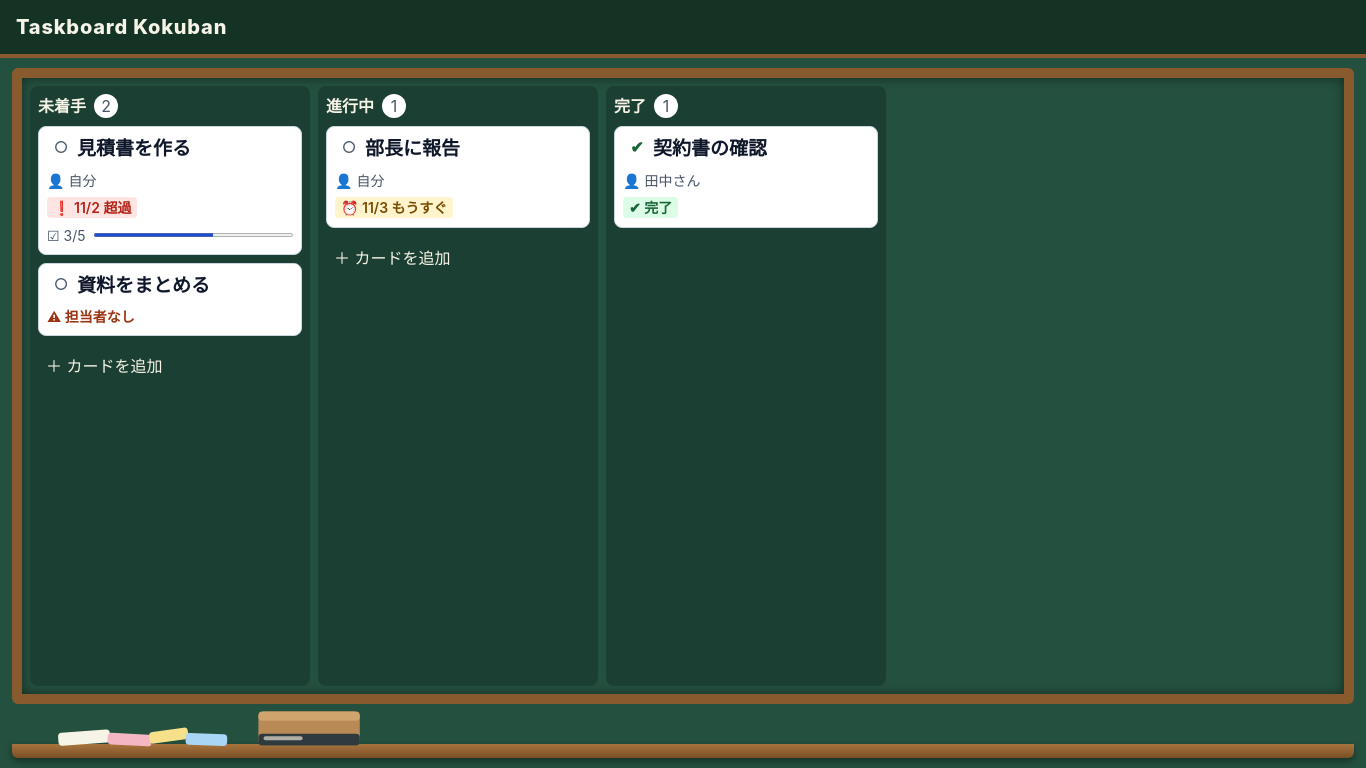
Test: BoardPage › カードの追加 › 追加に失敗したら、理由を出し、カードは増えず、入力した文字は残る
This screenshot has width=1366, height=768.
Click the button "＋ カードを追加" below "⚠ 担当者なし" at point(104, 366), box [38, 344, 302, 388]
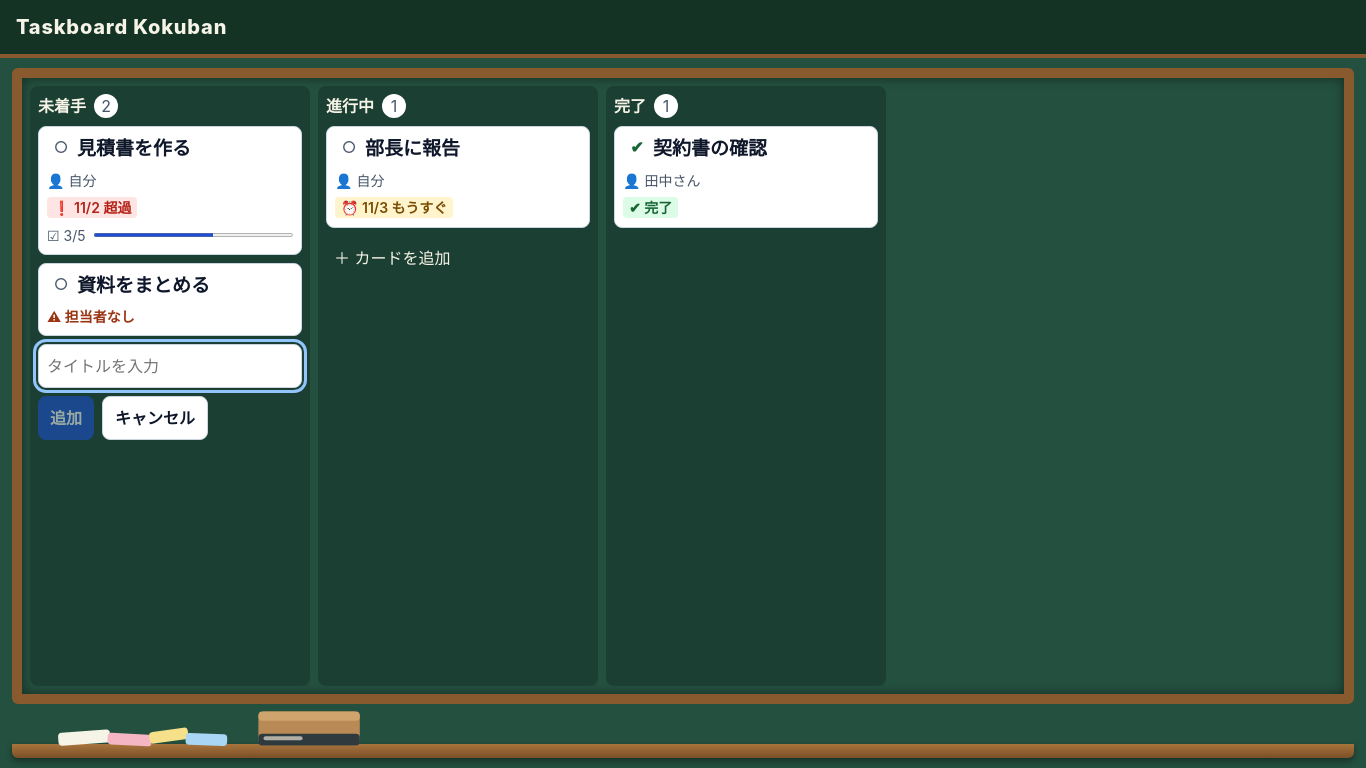
Type "請求書を送る" into the field named "カードのタイトル" at point(170, 366), box [38, 344, 302, 388]
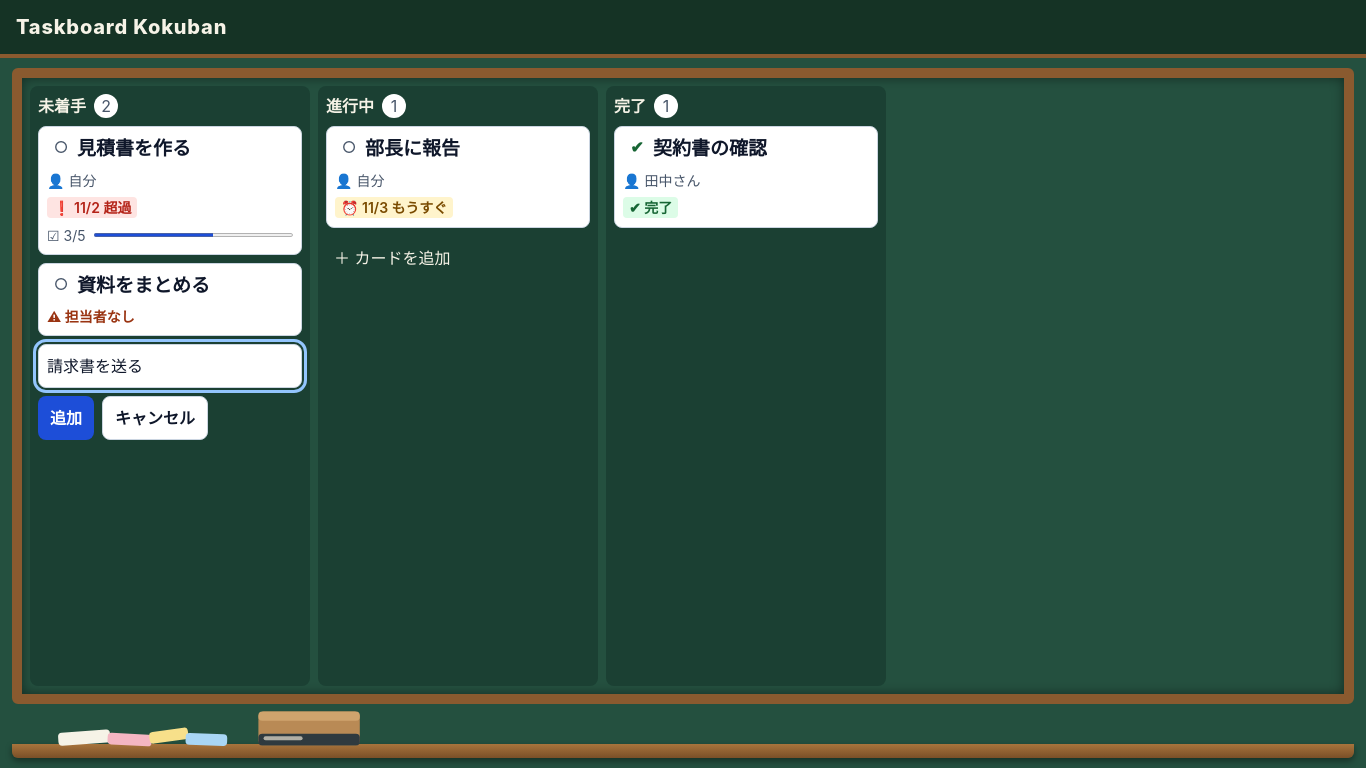
Click the button "追加" at point(66, 418), box [38, 396, 94, 440]
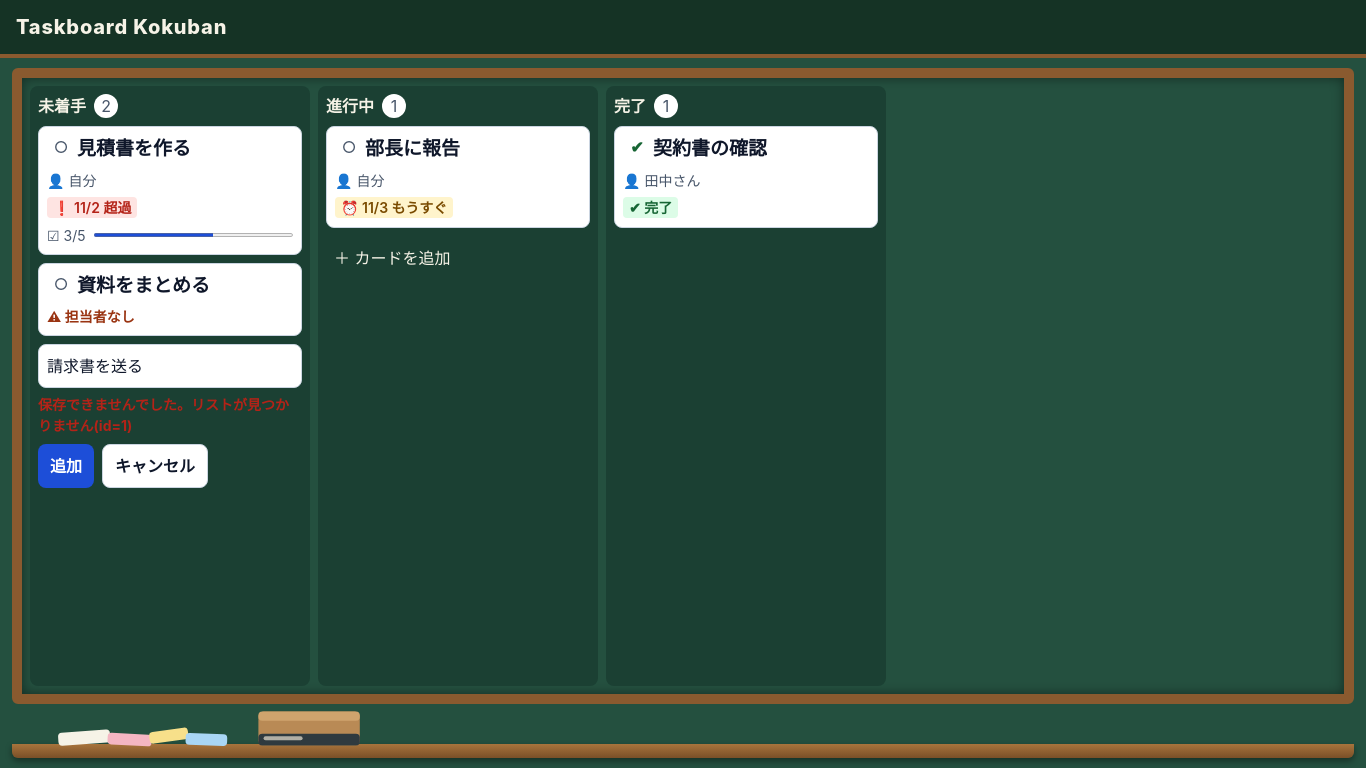
Check: the text named "2件" is shown, box [94, 94, 118, 118]
Check: the message reads "保存できませんでした。リストが見つかりません(id=1)", box [38, 394, 302, 436]
